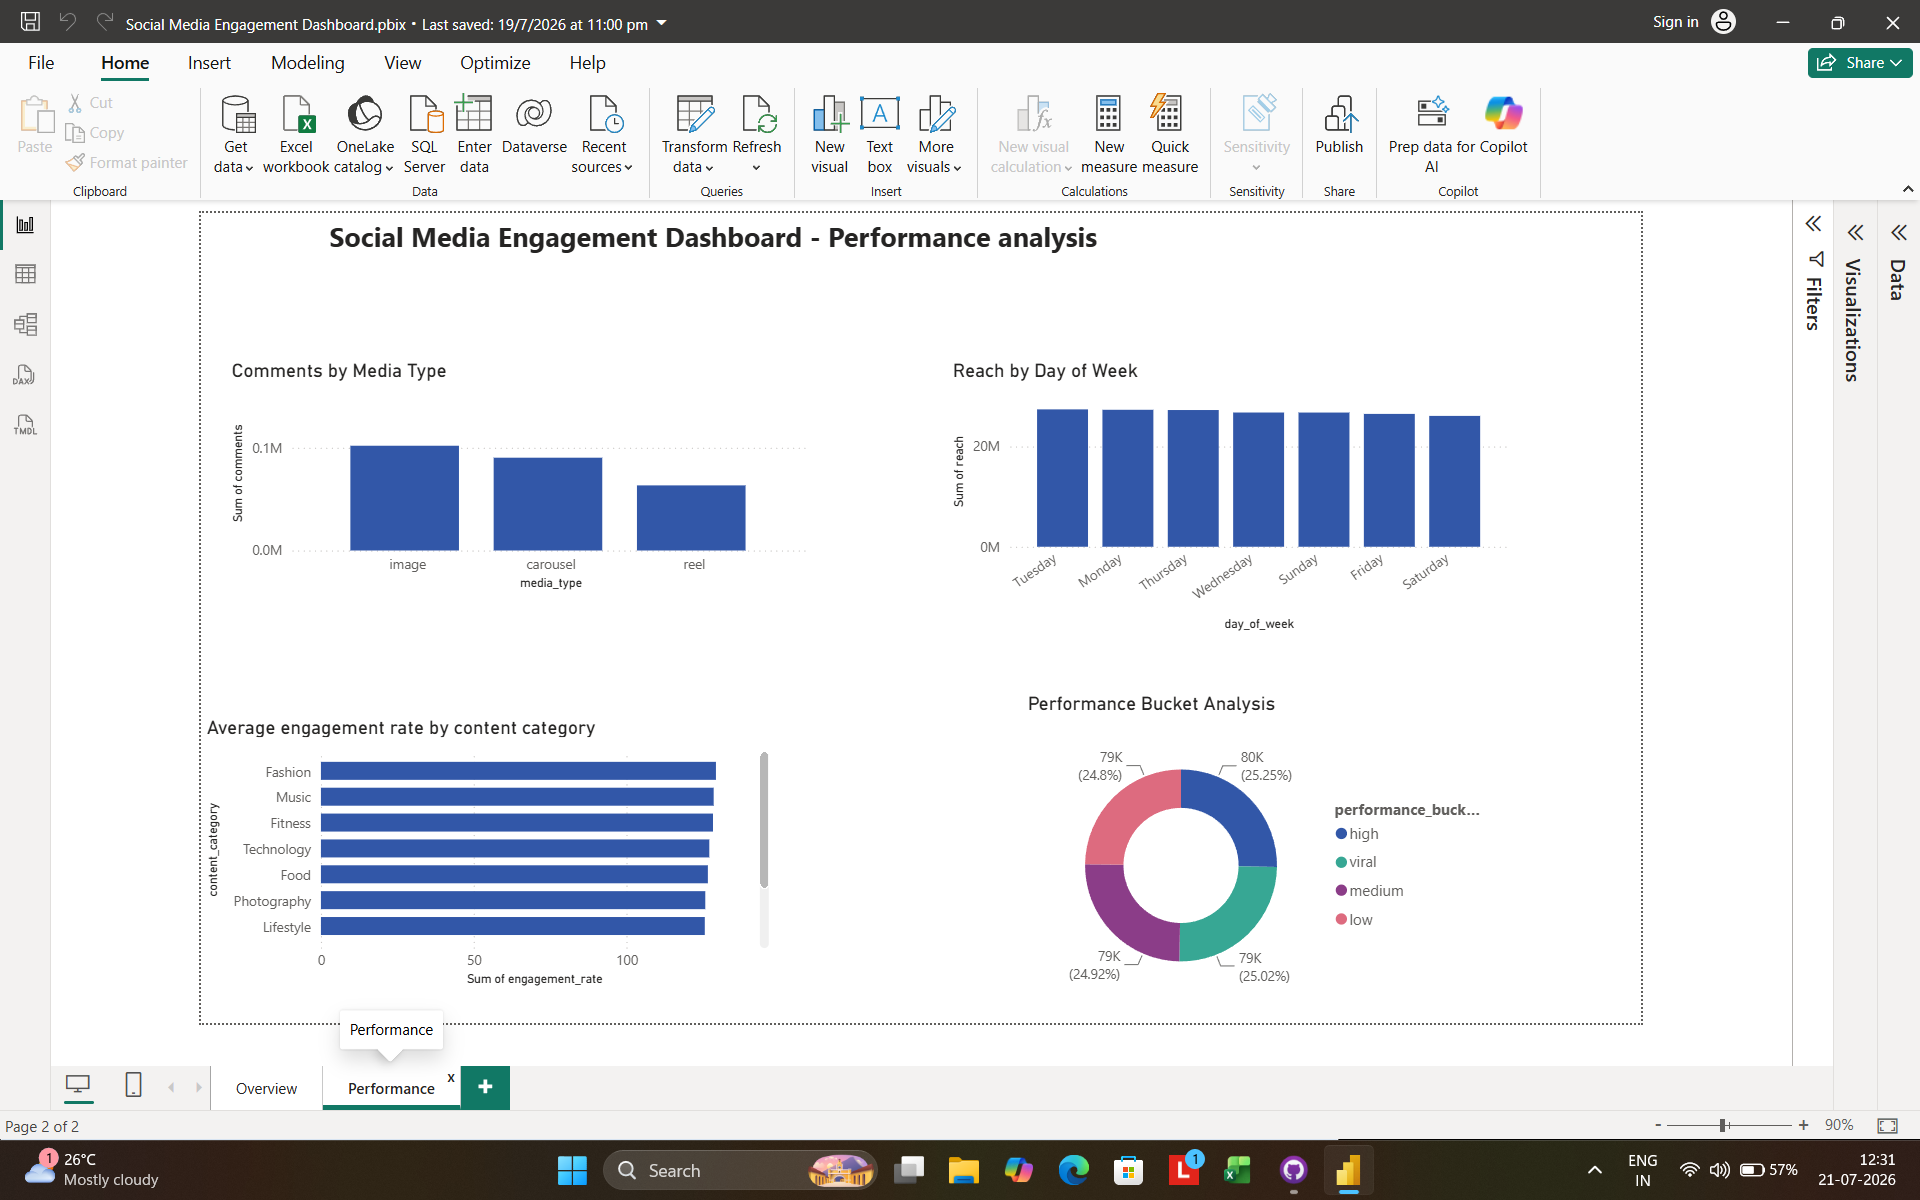

This screenshot's page, from the dashboard's own definition file:
{"tool":"powerbi","page":{"name":"Performance","canvas":[1280,720],"ordinal":1},"visuals":[{"type":"clusteredColumnChart","title":"Comments by Media Type","fields":{"Y":["Sum(Table23.comments)"],"Category":["Table23.media_type"]},"box":[21.7,130,523.3,210],"z":0},{"type":"donutChart","title":"Performance Bucket Analysis","fields":{"Category":["Table23.performance_bucket_label"],"Y":["Sum(Table23.account_id)"]},"box":[730,425,416.7,290],"z":1},{"type":"clusteredBarChart","title":"Average engagement rate by content category","fields":{"Category":["Table23.content_category"],"Y":["Sum(Table23.engagement_rate)"]},"box":[0,447.1,510,245.7],"z":2},{"type":"clusteredColumnChart","title":"Reach by Day of Week","fields":{"Category":["Table23.day_of_week"],"Y":["Sum(Table23.reach)"]},"box":[663.3,130,503.3,246.7],"z":3},{"type":"textbox","box":[520,447,210,246],"z":4},{"type":"textbox","box":[108.6,0,708.6,67.1],"z":5}]}

Visuals, with their boxes on the page's 1280x720 design canvas (x1, y1, x2, y2). These are canvas units, not pixel positions in the 1920x1200 screenshot, which may show the page scaled, cropped or inside an application window:
"Comments by Media Type" clusteredColumnChart: Rect(22, 130, 545, 340)
"Performance Bucket Analysis" donutChart: Rect(730, 425, 1147, 715)
"Average engagement rate by content category" clusteredBarChart: Rect(0, 447, 510, 693)
"Reach by Day of Week" clusteredColumnChart: Rect(663, 130, 1167, 377)
textbox: Rect(520, 447, 730, 693)
textbox: Rect(109, 0, 817, 67)
